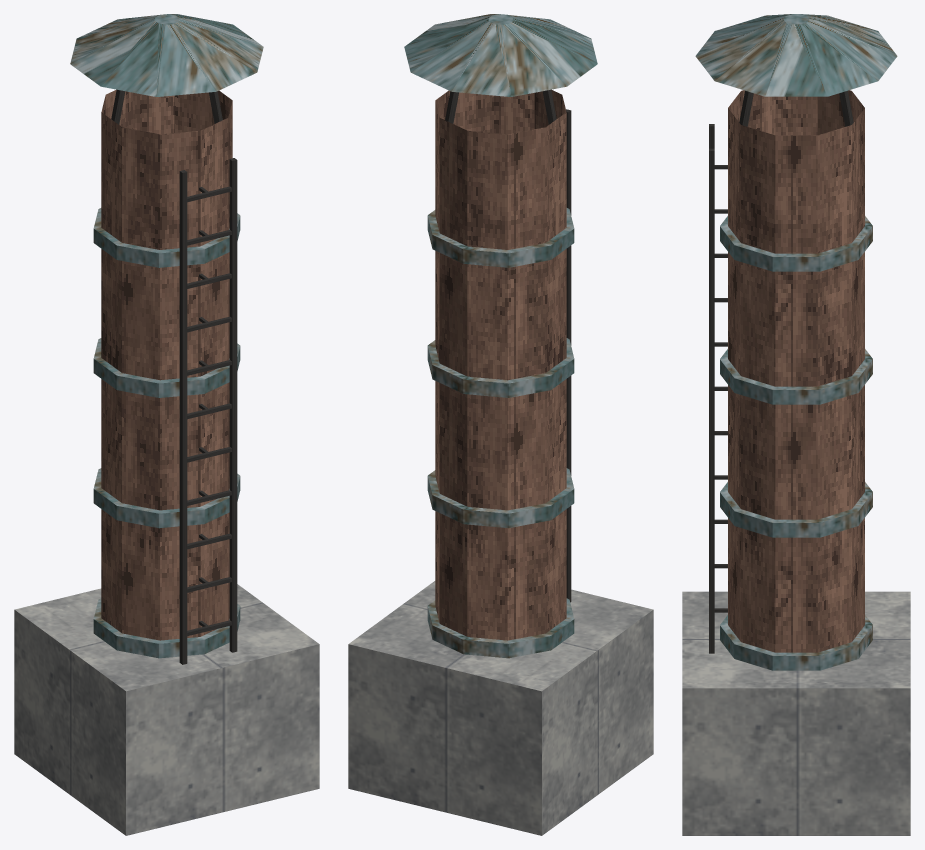
The model's file is ph_stack.fbx.
The picture shows the model from 3 angles, left to right: view 1: azimuth 30°, elevation 25°; view 2: azimuth 150°, elevation 25°; view 3: azimuth 270°, elevation 25°; orthographic projection. The views are drawn at different scales.
Parts seen in each view (by area): view 1: ph_stack; view 2: ph_stack; view 3: ph_stack.
Part boxes in pixels (x1,y1,x2,y2): ph_stack: (14, 14, 319, 835); ph_stack: (348, 14, 653, 835); ph_stack: (682, 14, 910, 835).
Size of the model in its own units: 1.4 by 5.2 by 1.4.
Materials: 4 (4 with a texture image).
